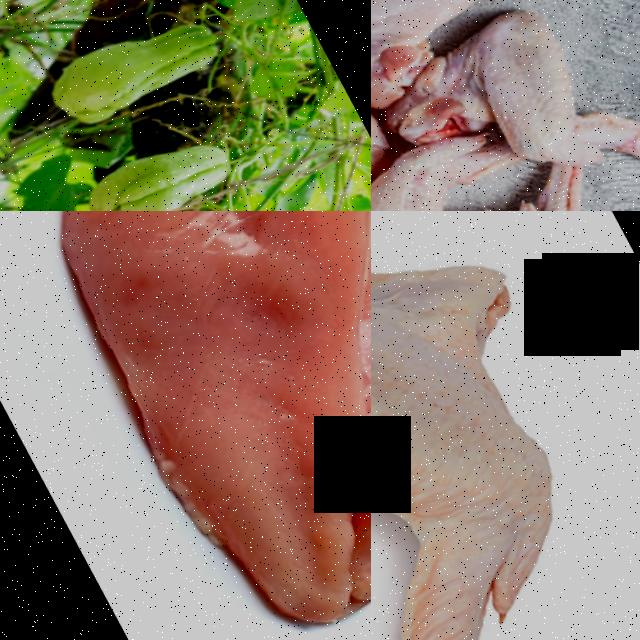chayote: (24, 0, 240, 144), (50, 115, 256, 211)
chicken breast: (0, 211, 371, 640)
chicken wing: (371, 211, 640, 640), (371, 0, 640, 211), (371, 0, 580, 107), (371, 95, 558, 211), (430, 136, 640, 211)
